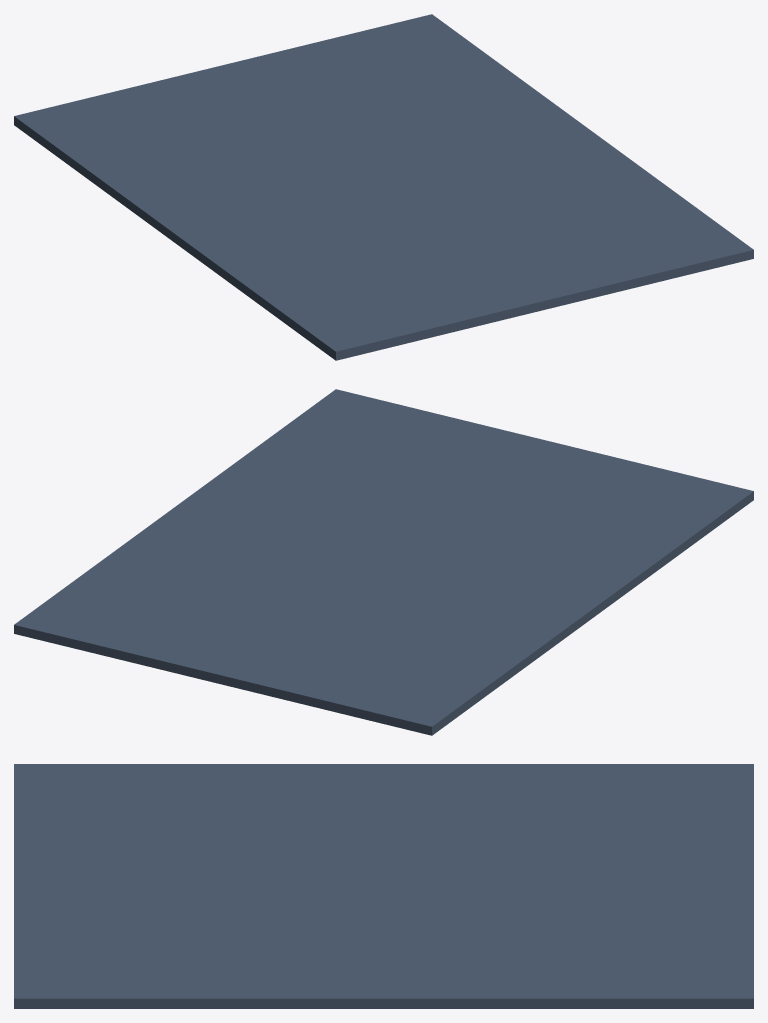
Rendered from floor_013_l_chamber_3_zaschischennaya_floor.obj.
The picture shows the model from 3 angles, top to bottom: view 1: azimuth 30°, elevation 25°; view 2: azimuth 150°, elevation 25°; view 3: azimuth 270°, elevation 25°; orthographic projection. The views are drawn at different scales.
Visible parts, largest first — view 1: Floor_013_l_chamber_3_zaschischennaya_floor; view 2: Floor_013_l_chamber_3_zaschischennaya_floor; view 3: Floor_013_l_chamber_3_zaschischennaya_floor.
Part boxes in pixels (left/top/right/bottom): Floor_013_l_chamber_3_zaschischennaya_floor: left=14, top=14, right=753, bottom=360; Floor_013_l_chamber_3_zaschischennaya_floor: left=14, top=389, right=753, bottom=735; Floor_013_l_chamber_3_zaschischennaya_floor: left=14, top=764, right=753, bottom=1008.
Bounding box in the file's own units: 9.7 × 0.2 × 12.94.
